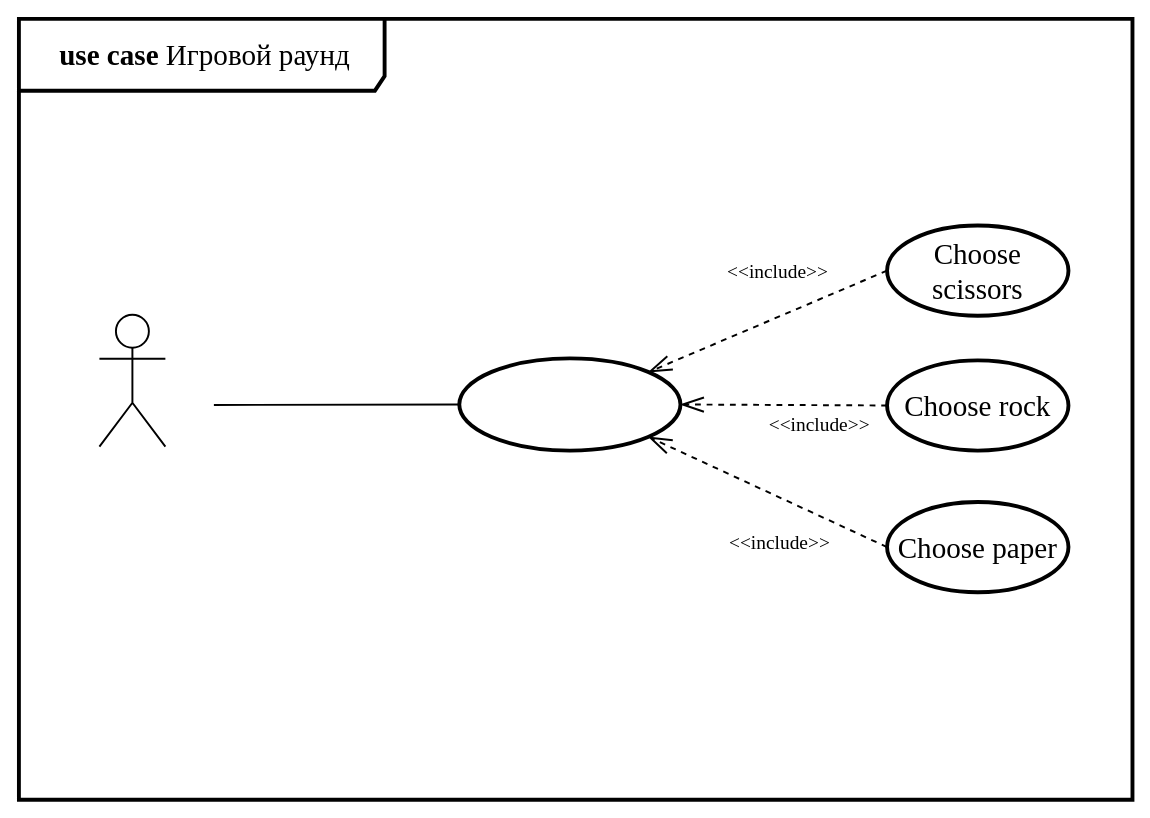
This 1150x818 diagram has some shape labels left out. The shapes that lost their labels are listed below. From the top down, each one's centre as x and y in pixels, then its label:
(x=132, y=380): User
(x=569, y=404): Choose weapon
